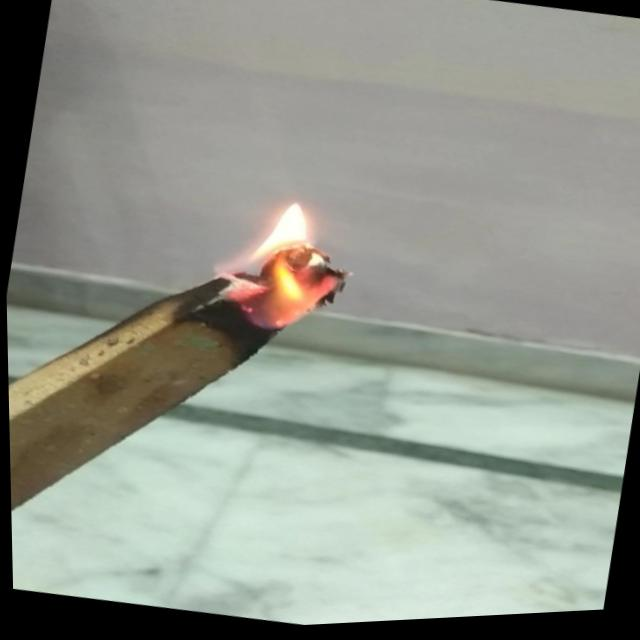fire: (195, 177, 367, 359)
